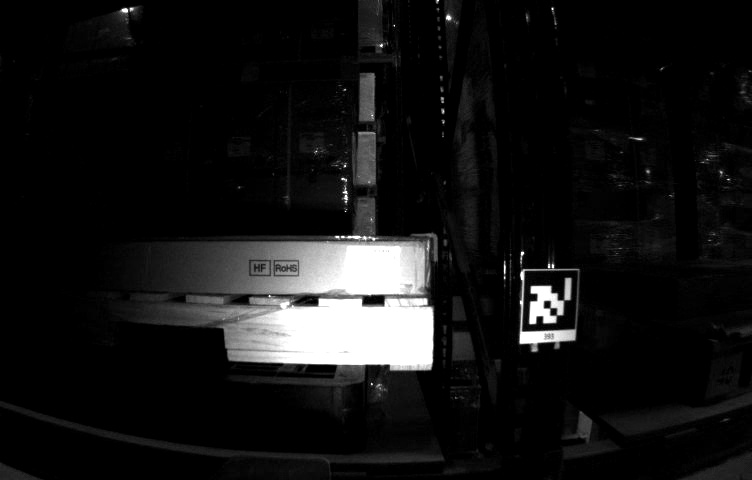True Barcode: (345, 243, 400, 293)
